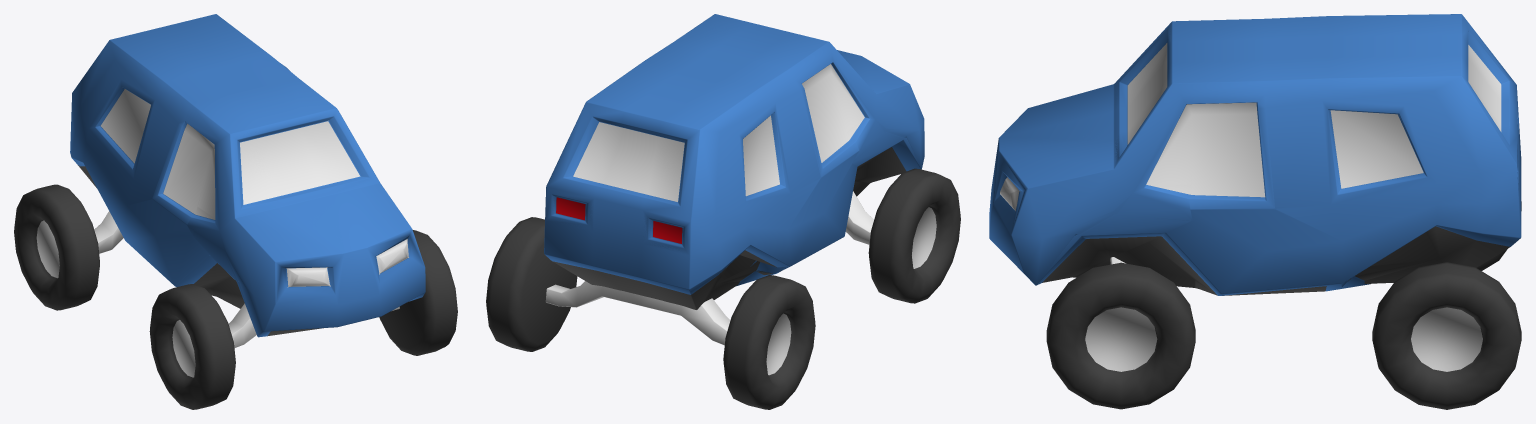
The model's file is Off-Road Vehicle.fbx.
3 renders of one model, left to right at view 1: azimuth 30°, elevation 25°; view 2: azimuth 150°, elevation 25°; view 3: azimuth 270°, elevation 25°, orthographic. The views are drawn at different scales.
Visible parts, largest first — view 1: Car, Right Rear Wheel, Right Wheel, Left Wheel; view 2: Car, Right Rear Wheel, Right Wheel, Left Rear Wheel; view 3: Car, Left Rear Wheel, Left Wheel.
Boxes of the visible parts, bbox=[...] form: Car: bbox=[70, 14, 425, 348]; Right Rear Wheel: bbox=[14, 184, 99, 310]; Right Wheel: bbox=[149, 284, 235, 409]; Left Wheel: bbox=[379, 230, 457, 355]; Car: bbox=[544, 14, 924, 345]; Right Rear Wheel: bbox=[723, 275, 815, 409]; Right Wheel: bbox=[868, 168, 960, 303]; Left Rear Wheel: bbox=[486, 217, 577, 351]; Car: bbox=[989, 14, 1521, 295]; Left Rear Wheel: bbox=[1372, 262, 1521, 409]; Left Wheel: bbox=[1046, 262, 1195, 409].
Bounding box in the file's own units: 3.15 × 2.9 × 4.75.
